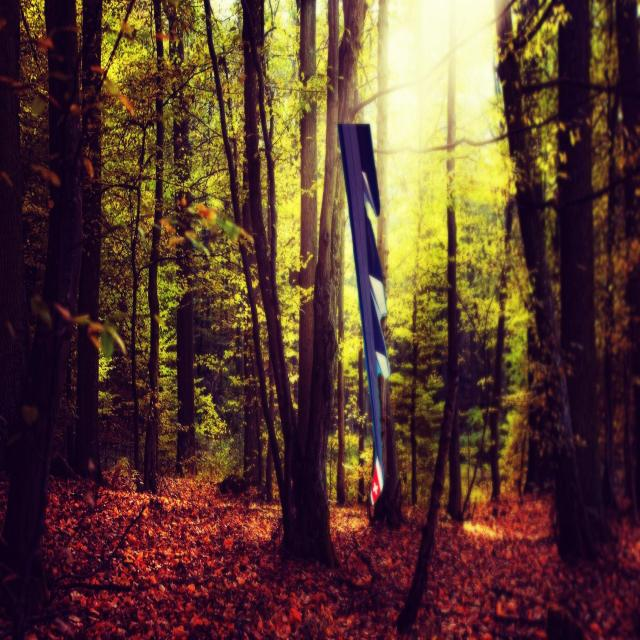airplane: (337, 121, 398, 518)
